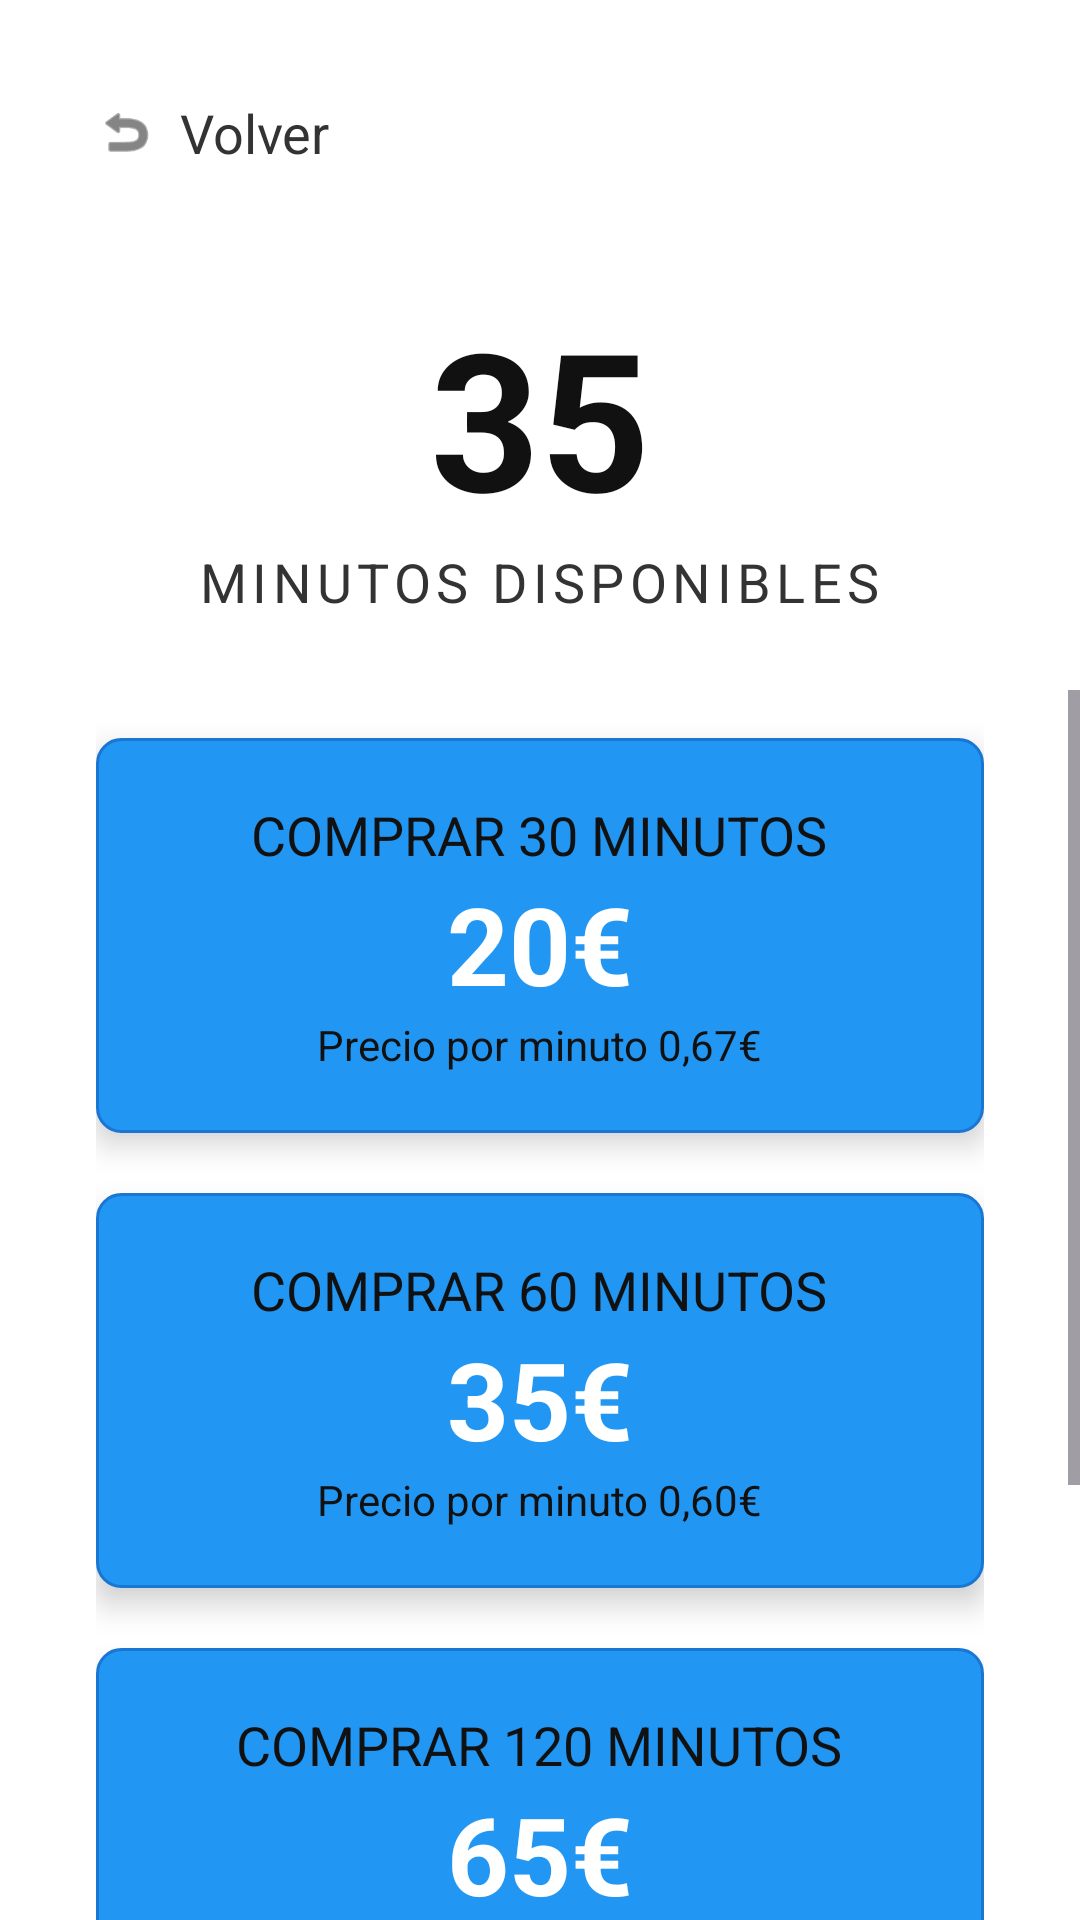

Icons on this 1080x1920 Android screen, each with the point to tap as [x,y]:
revert: [126,132]
